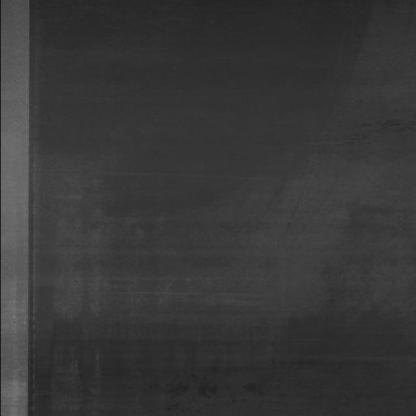welding_line: (15, 0, 46, 416)
